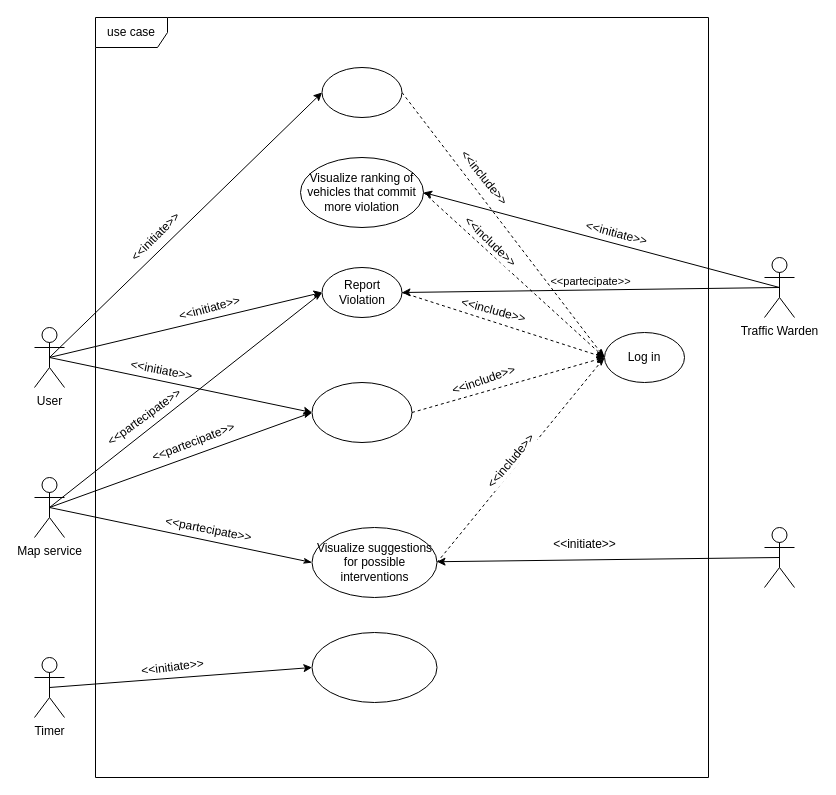
Image size: 836x795. Some labels were removed from this diagram. Each missing label, with the centre of its shape:
"Cross data to suggests" goes at point (374, 667).
"Municipality" goes at point (779, 557).
"Sign up" goes at point (361, 92).
"Visualize public available data on the map" goes at point (361, 412).
